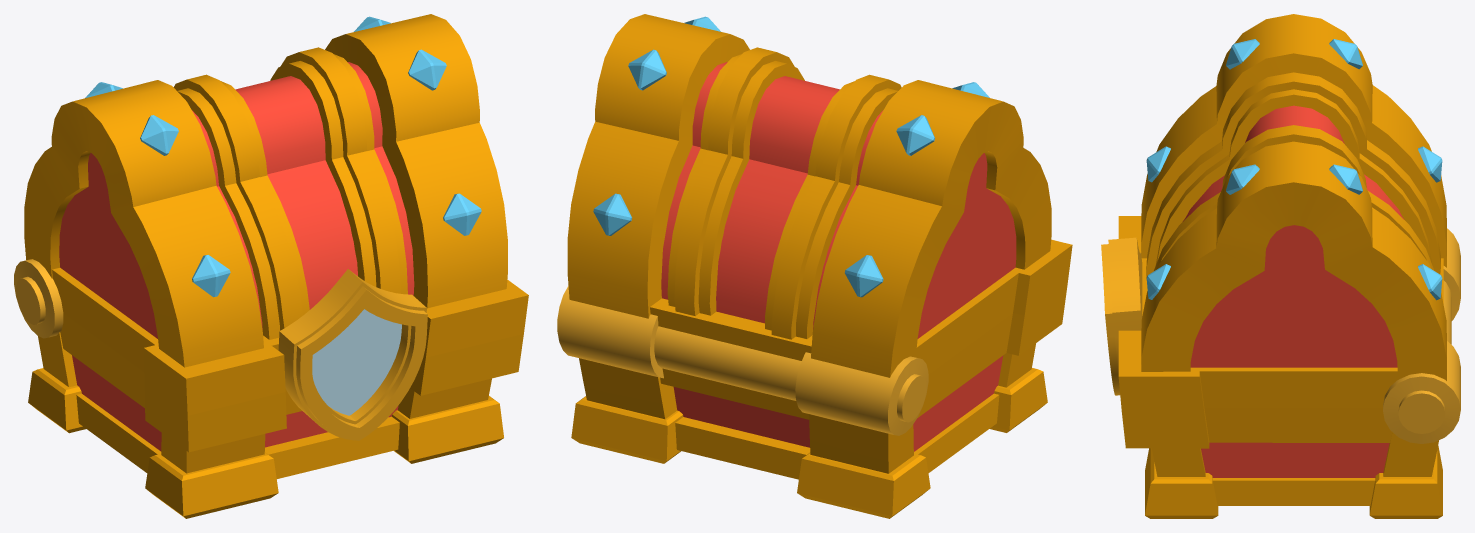
Rendered from Chest K Multi.fbx.
The picture shows the model from 3 angles, left to right: view 1: azimuth 30°, elevation 25°; view 2: azimuth 150°, elevation 25°; view 3: azimuth 270°, elevation 25°; orthographic projection. The views are drawn at different scales.
Parts seen in each view (by area): view 1: Chest K Cover, Chest K, Chest K Icon; view 2: Chest K Cover, Chest K; view 3: Chest K Cover, Chest K, Chest K Icon.
Part boxes in pixels (x1,y1,x2,y2): Chest K Cover: (14,14,528,415); Chest K: (28,313,523,518); Chest K Icon: (278,269,427,440); Chest K Cover: (557,14,1072,435); Chest K: (571,284,1067,518); Chest K Cover: (1118,14,1460,443); Chest K: (1122,407,1442,518); Chest K Icon: (1101,237,1142,395).
Size of the model in its own units: 3 by 2.9 by 2.71.
